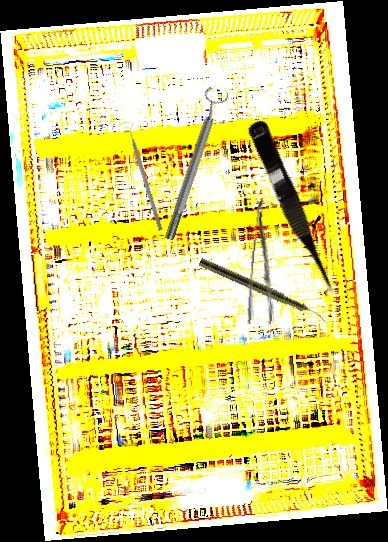Chopper: (125, 120, 169, 232)
Dressing Forceps: (245, 199, 284, 327)
Fixation Ring: (156, 86, 231, 243)
Handpiece: (197, 257, 330, 324)
Micro Scissor: (241, 118, 342, 301)
